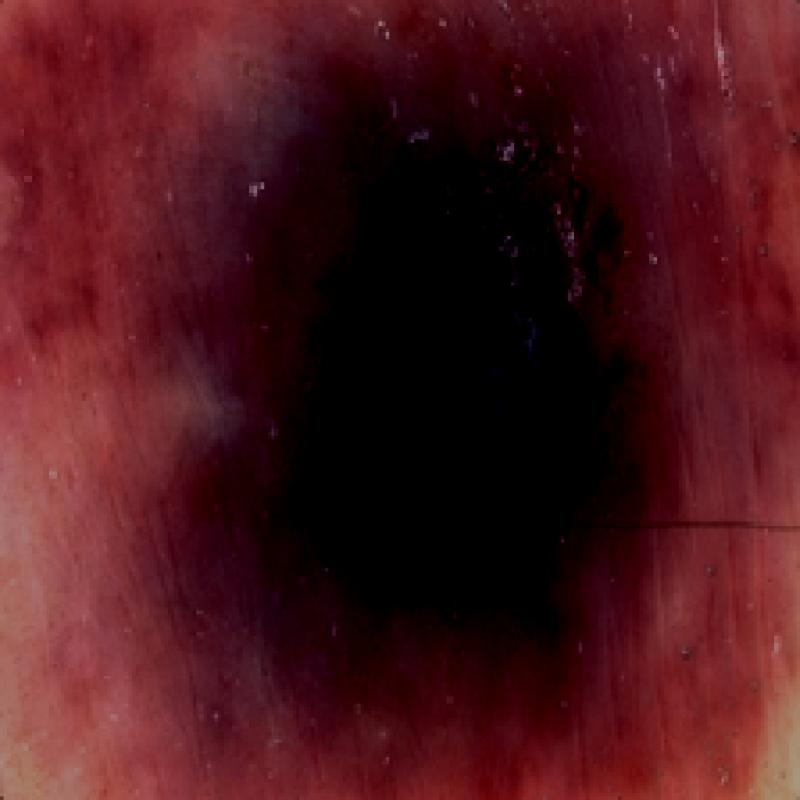malignant: (228, 86, 684, 647)
